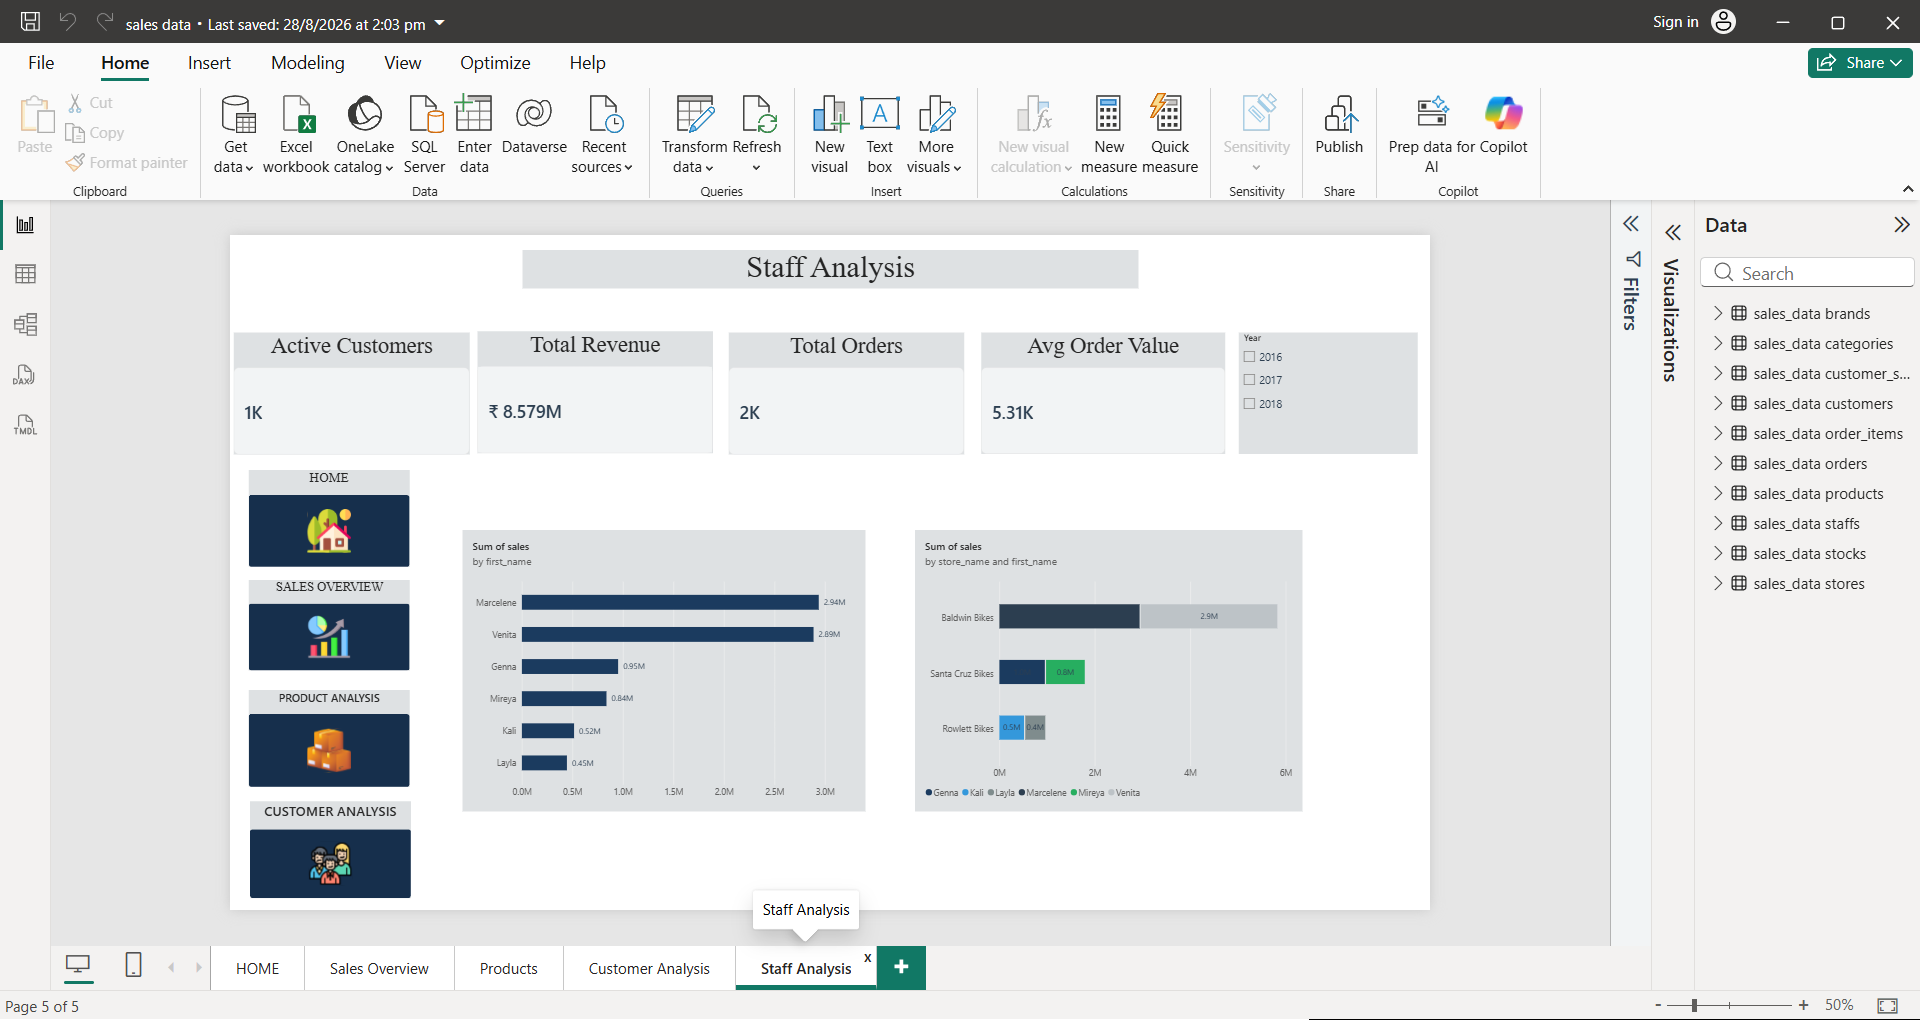

The dashboard page shown, as its layout file describes it:
{"tool":"powerbi","page":{"name":"Staff Analysis","canvas":[1920,1080],"ordinal":4},"visuals":[{"type":"barChart","fields":{"Category":["sales_data staffs.first_name"],"Y":["Sum(sales_data order_items.sales)"]},"box":[372.5,472.5,645,450],"z":0},{"type":"barChart","fields":{"Category":["sales_data stores.store_name"],"Series":["sales_data staffs.first_name"],"Y":["Sum(sales_data order_items.sales)"]},"box":[1095,472.5,620,450],"z":1000},{"type":"textbox","box":[468,24,985.9,61.7],"z":2000},{"type":"cardVisual","title":"Active Customers","fields":{"Data":["sales_data order_items.Active Customers"]},"box":[5,155,377.5,195],"z":3000},{"type":"cardVisual","title":"Total Revenue","fields":{"Data":["sales_data order_items.Total Revenue"]},"box":[396,154,376.7,195.5],"z":4000},{"type":"cardVisual","title":"Total Orders","fields":{"Data":["sales_data order_items.total orders"]},"box":[798.6,156.4,376.7,195.5],"z":5000},{"type":"cardVisual","title":"Avg Order Value","fields":{"Data":["sales_data order_items.Avg Order Value"]},"box":[1202,156,390,194],"z":6000},{"type":"slicer","fields":{"Values":["sales_data orders.order_date.Variation.Date Hierarchy.Year"]},"box":[1614,156,286,194],"z":7000},{"type":"actionButton","title":"PRODUCT ANALYSIS","box":[30,727.5,257.5,155],"z":8000},{"type":"actionButton","title":"HOME","box":[30,375,257.5,155],"z":9000},{"type":"actionButton","title":"CUSTOMER ANALYSIS","box":[32.5,905,257.5,155],"z":10000},{"type":"actionButton","title":"SALES OVERVIEW","box":[30,552.5,257.5,145],"z":10001}]}

Visuals, with their boxes on the page's 1920x1080 design canvas (x1, y1, x2, y2). These are canvas units, not pixel positions in the 1920x1020 screenshot, which may show the page scaled, cropped or inside an application window:
barChart - sales_data staffs.first_name x Sum(sales_data order_items.sales): left=372, top=472, right=1018, bottom=922
barChart - sales_data stores.store_name x sales_data staffs.first_name: left=1095, top=472, right=1715, bottom=922
textbox: left=468, top=24, right=1454, bottom=86
"Active Customers" cardVisual: left=5, top=155, right=382, bottom=350
"Total Revenue" cardVisual: left=396, top=154, right=773, bottom=350
"Total Orders" cardVisual: left=799, top=156, right=1175, bottom=352
"Avg Order Value" cardVisual: left=1202, top=156, right=1592, bottom=350
slicer - sales_data orders.order_date.Variation.Date Hierarchy.Year: left=1614, top=156, right=1900, bottom=350
"PRODUCT ANALYSIS" actionButton: left=30, top=728, right=288, bottom=882
"HOME" actionButton: left=30, top=375, right=288, bottom=530
"CUSTOMER ANALYSIS" actionButton: left=32, top=905, right=290, bottom=1060
"SALES OVERVIEW" actionButton: left=30, top=552, right=288, bottom=698
